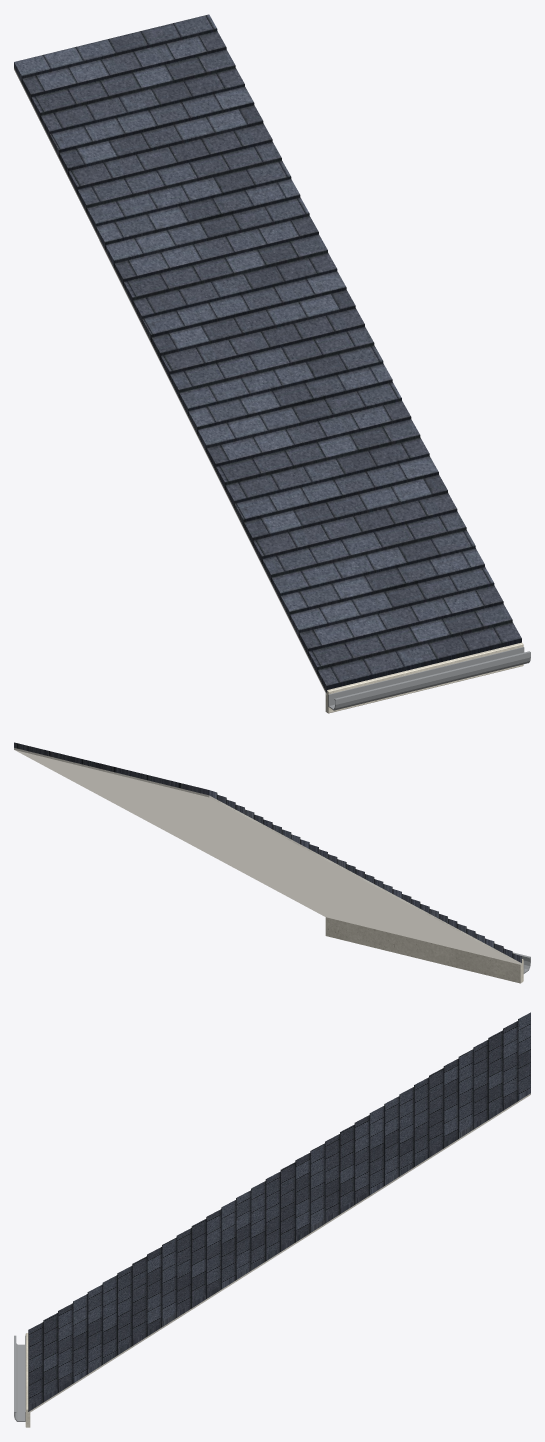
Rendered from roof_main_0.glb.
3 views of the same model, one above another, from view 1: azimuth 30°, elevation 25°; view 2: azimuth 150°, elevation 25°; view 3: azimuth 270°, elevation 25° (orthographic). The views are drawn at different scales.
Parts seen in each view (by area): view 1: roof_main_0_shingles, roof_main_0_gutter, roof_main_0_trim, roof_main_0_plaster; view 2: roof_main_0_plaster, roof_main_0_trim, roof_main_0_shingles; view 3: roof_main_0_shingles, roof_main_0_plaster, roof_main_0_gutter.
Part boxes in pixels (left/top/right/bottom): roof_main_0_shingles: left=14, top=14, right=521, bottom=692; roof_main_0_gutter: left=328, top=647, right=530, bottom=710; roof_main_0_trim: left=325, top=642, right=523, bottom=713; roof_main_0_plaster: left=14, top=68, right=326, bottom=694; roof_main_0_plaster: left=14, top=748, right=521, bottom=965; roof_main_0_trim: left=325, top=917, right=523, bottom=983; roof_main_0_shingles: left=14, top=742, right=521, bottom=962; roof_main_0_shingles: left=28, top=1012, right=530, bottom=1411; roof_main_0_plaster: left=28, top=1093, right=530, bottom=1413; roof_main_0_gutter: left=14, top=1335, right=25, bottom=1421.
Size of the model in its own units: 2 by 4.13 by 5.71.
4 materials, 3 textured.
